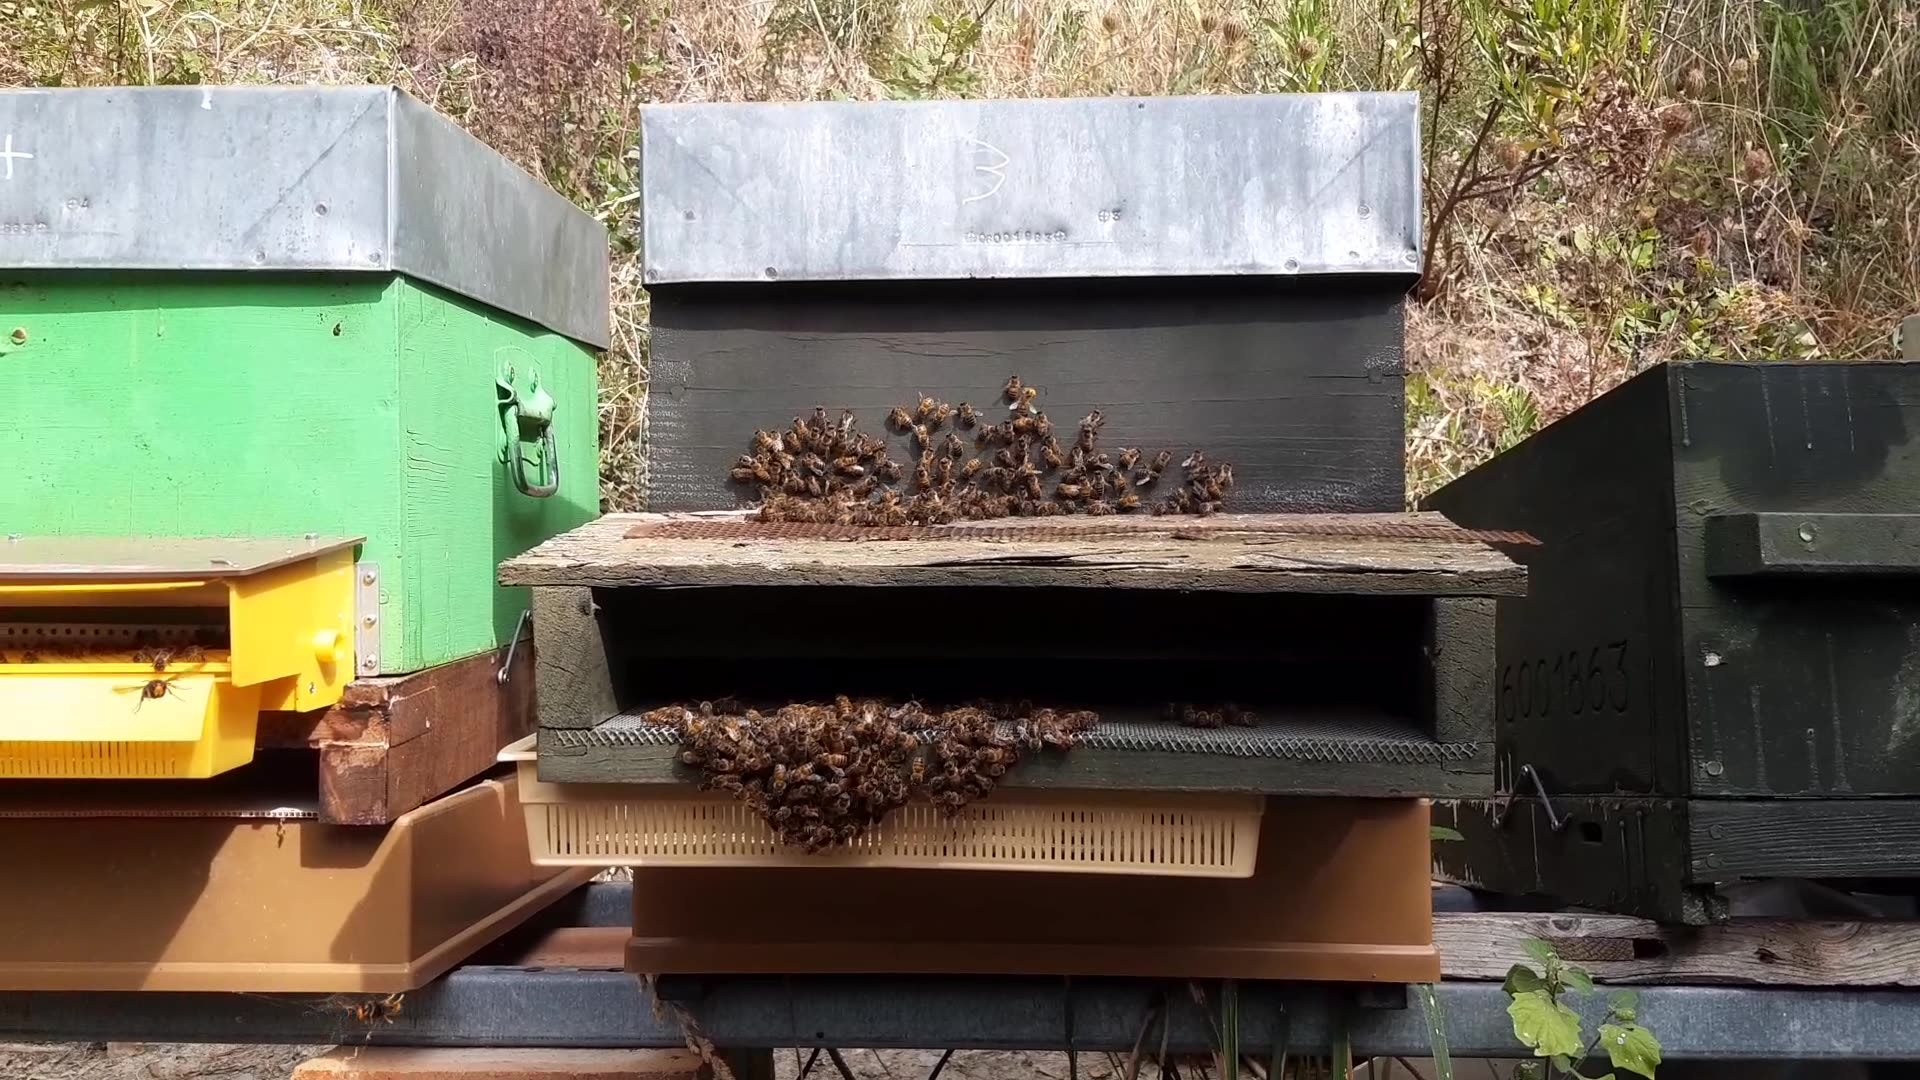bee: (949, 469, 1029, 550), (761, 766, 837, 849), (1139, 451, 1220, 508), (807, 676, 928, 713), (1021, 458, 1092, 520), (848, 473, 926, 530), (694, 694, 783, 735), (935, 386, 1006, 435), (832, 417, 897, 462), (1026, 411, 1077, 465)
